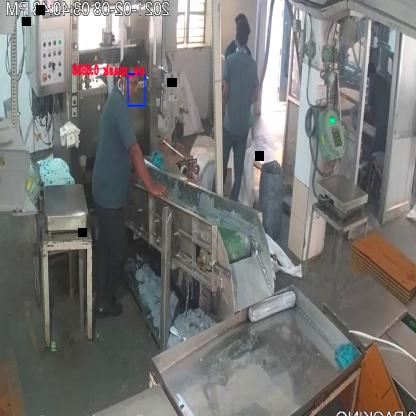no_glove: (125, 134, 170, 204)
